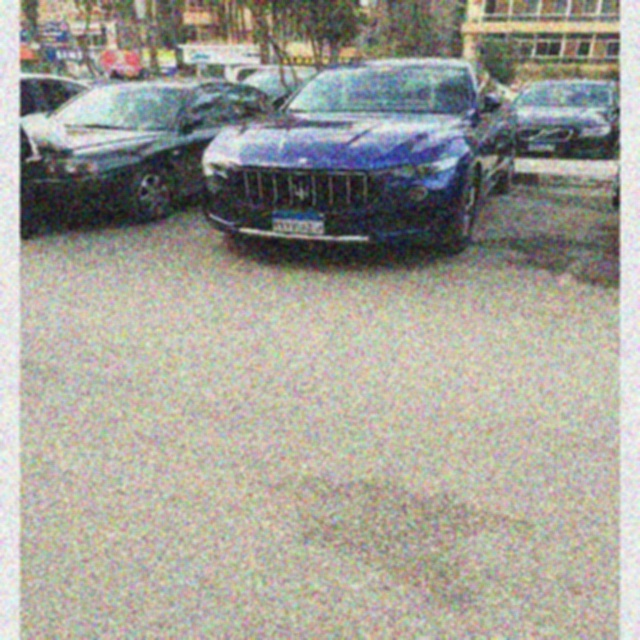License Plate: (270, 209, 327, 237)
